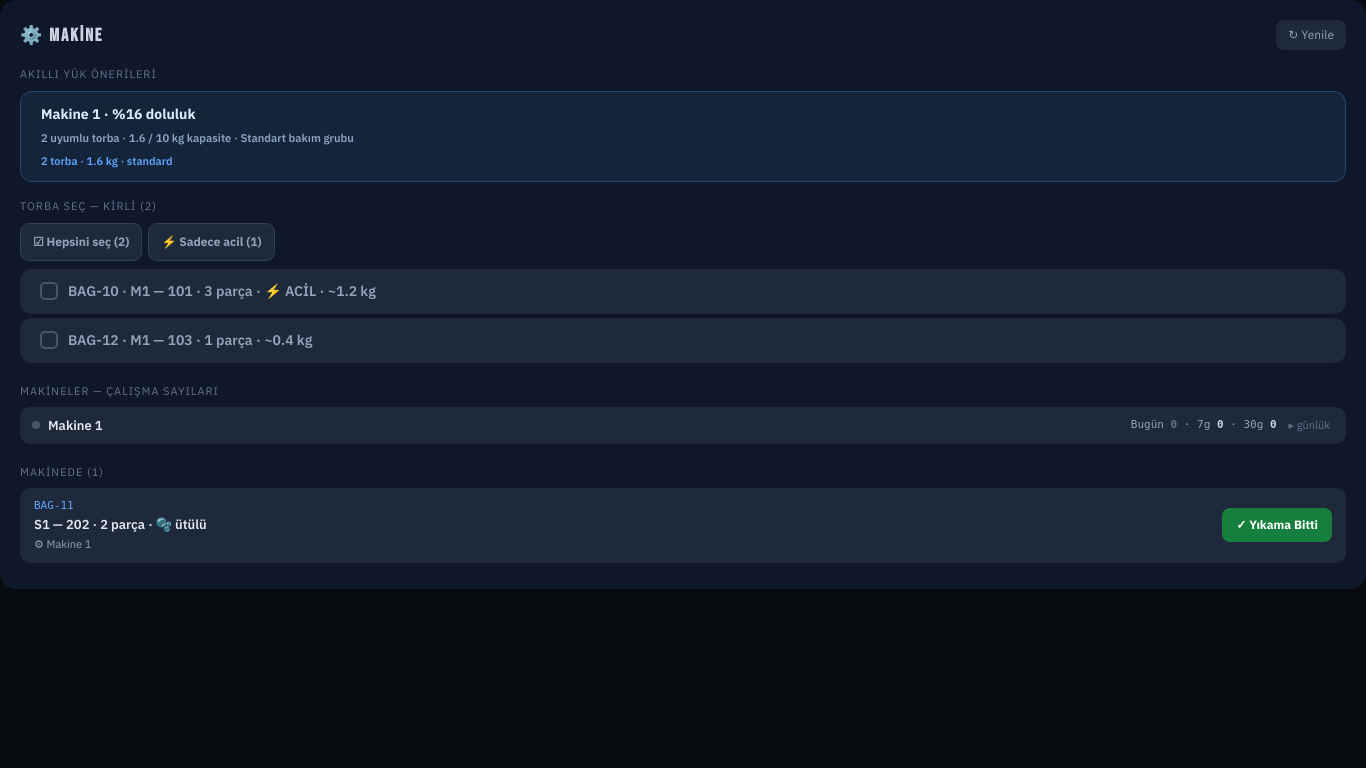
Test case: MachineView smoke › yıkama bitti butonu wash-complete çağırır ve ütü mesajı gösterir
The image size is (1366, 768).
Click the button "✓ Yıkama Bitti".
click(1277, 526)  # box [1222,508,1332,542]
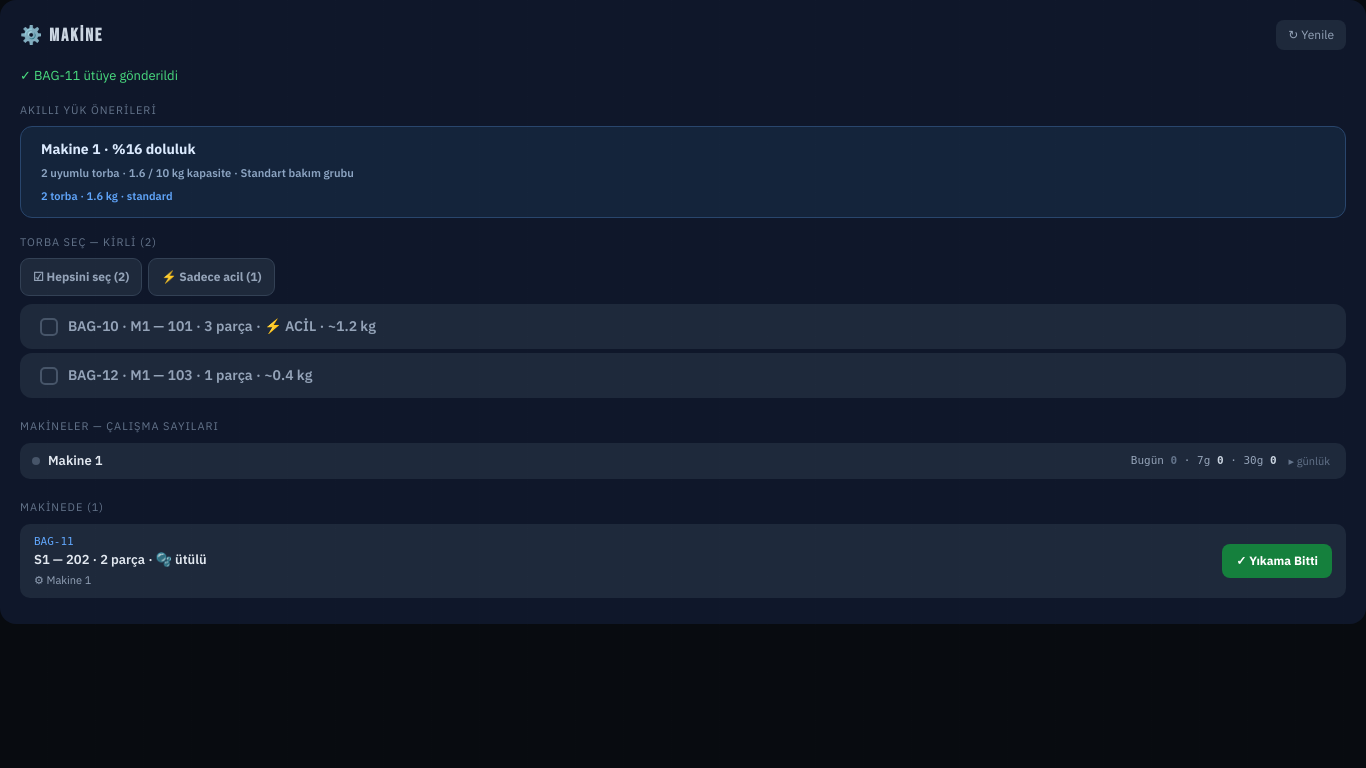
expect the text "✓ BAG-11 ütüye gönderildi" is shown: met, box [20,67,178,84]
